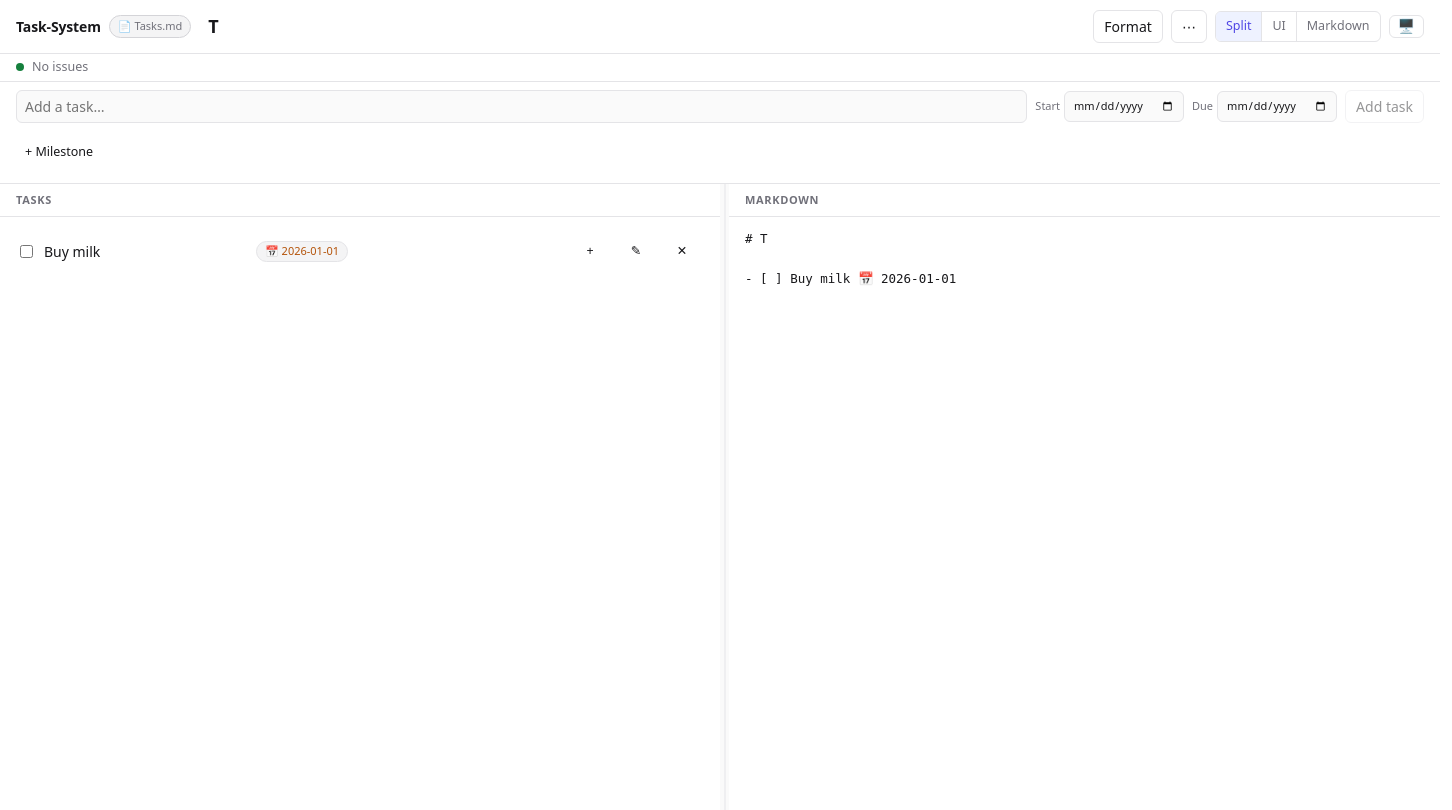
Test: file mode › reports the save state after an edit
This screenshot has width=1452, height=810.
Expected: the text "📄 Tasks.md" is shown, [109,15,191,38]
Click the button named "Delete task".
click(682, 251)  # box [660,229,704,273]
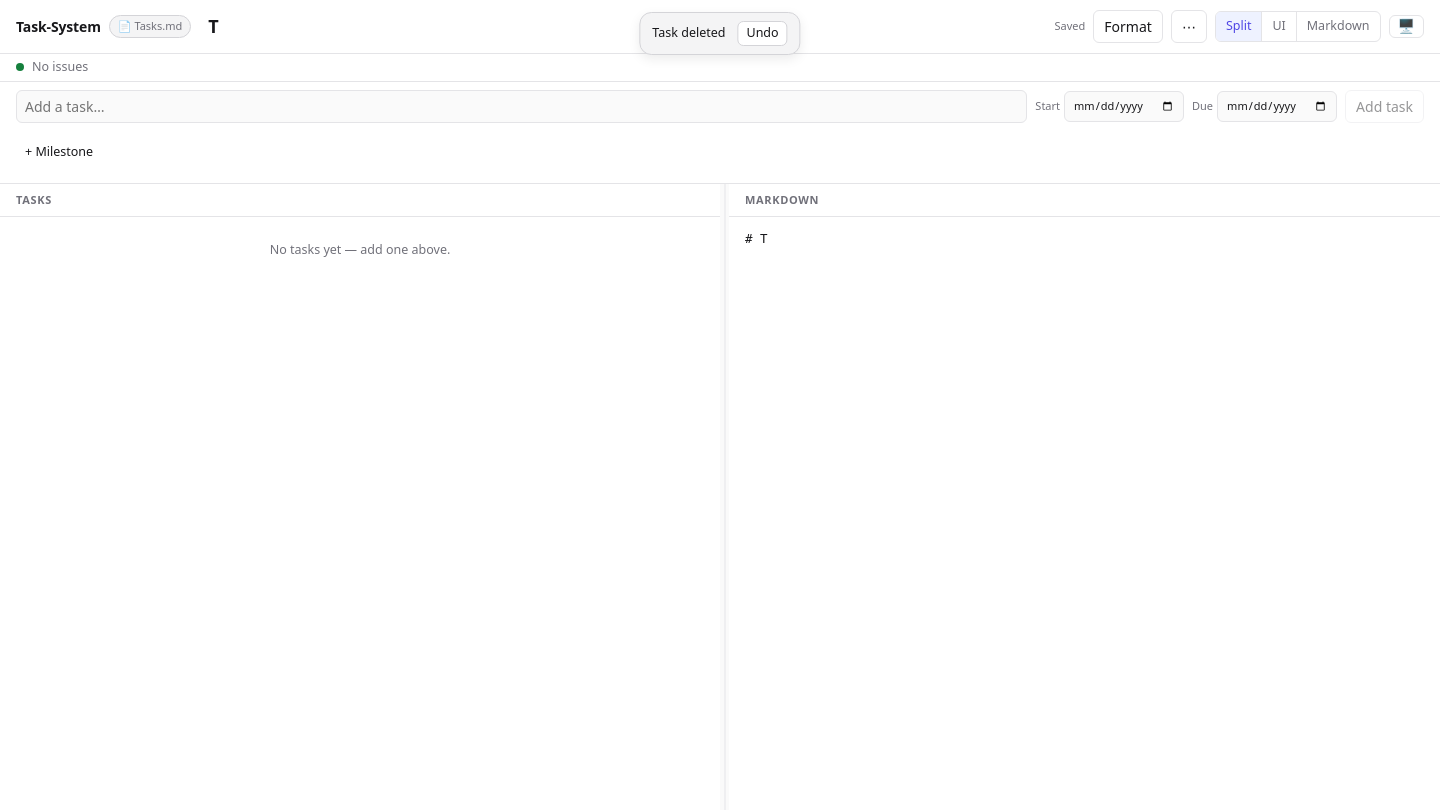
Expected: the text "Saved" is shown, [1055,18,1085,35]
